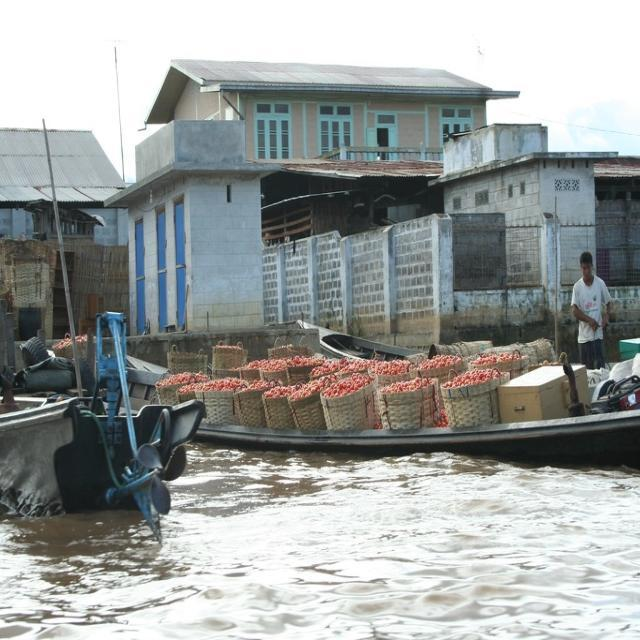boat: (92, 381, 639, 462)
